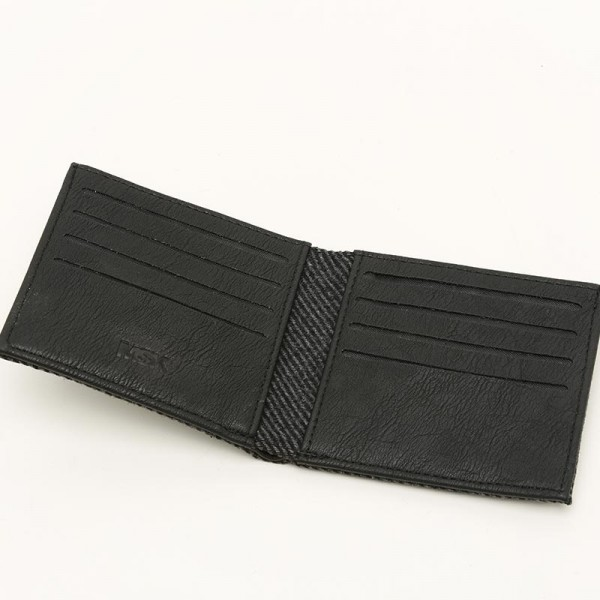monedero: (1, 162, 600, 504)
